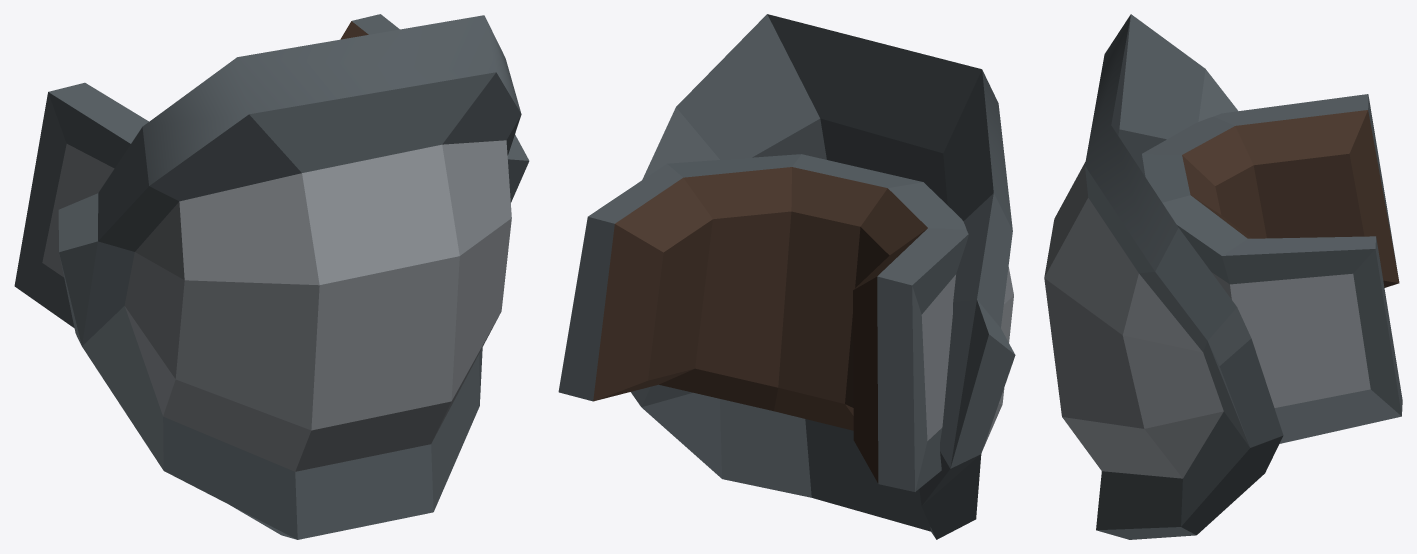
File: Chr_KneeAttachRight_04_Static.fbx
3 renders of one model, left to right at view 1: azimuth 30°, elevation 25°; view 2: azimuth 150°, elevation 25°; view 3: azimuth 270°, elevation 25°, orthographic. The views are drawn at different scales.
Visible parts, largest first — view 1: Chr_KneeAttachRight_04_Static; view 2: Chr_KneeAttachRight_04_Static; view 3: Chr_KneeAttachRight_04_Static.
Part boxes in pixels (x1=…): Chr_KneeAttachRight_04_Static: x1=14, y1=14, x2=529, y2=539; Chr_KneeAttachRight_04_Static: x1=558, y1=14, x2=1015, y2=539; Chr_KneeAttachRight_04_Static: x1=1044, y1=14, x2=1402, y2=539.
Bounding box in the file's own units: 0.1647 × 0.1736 × 0.1262.
